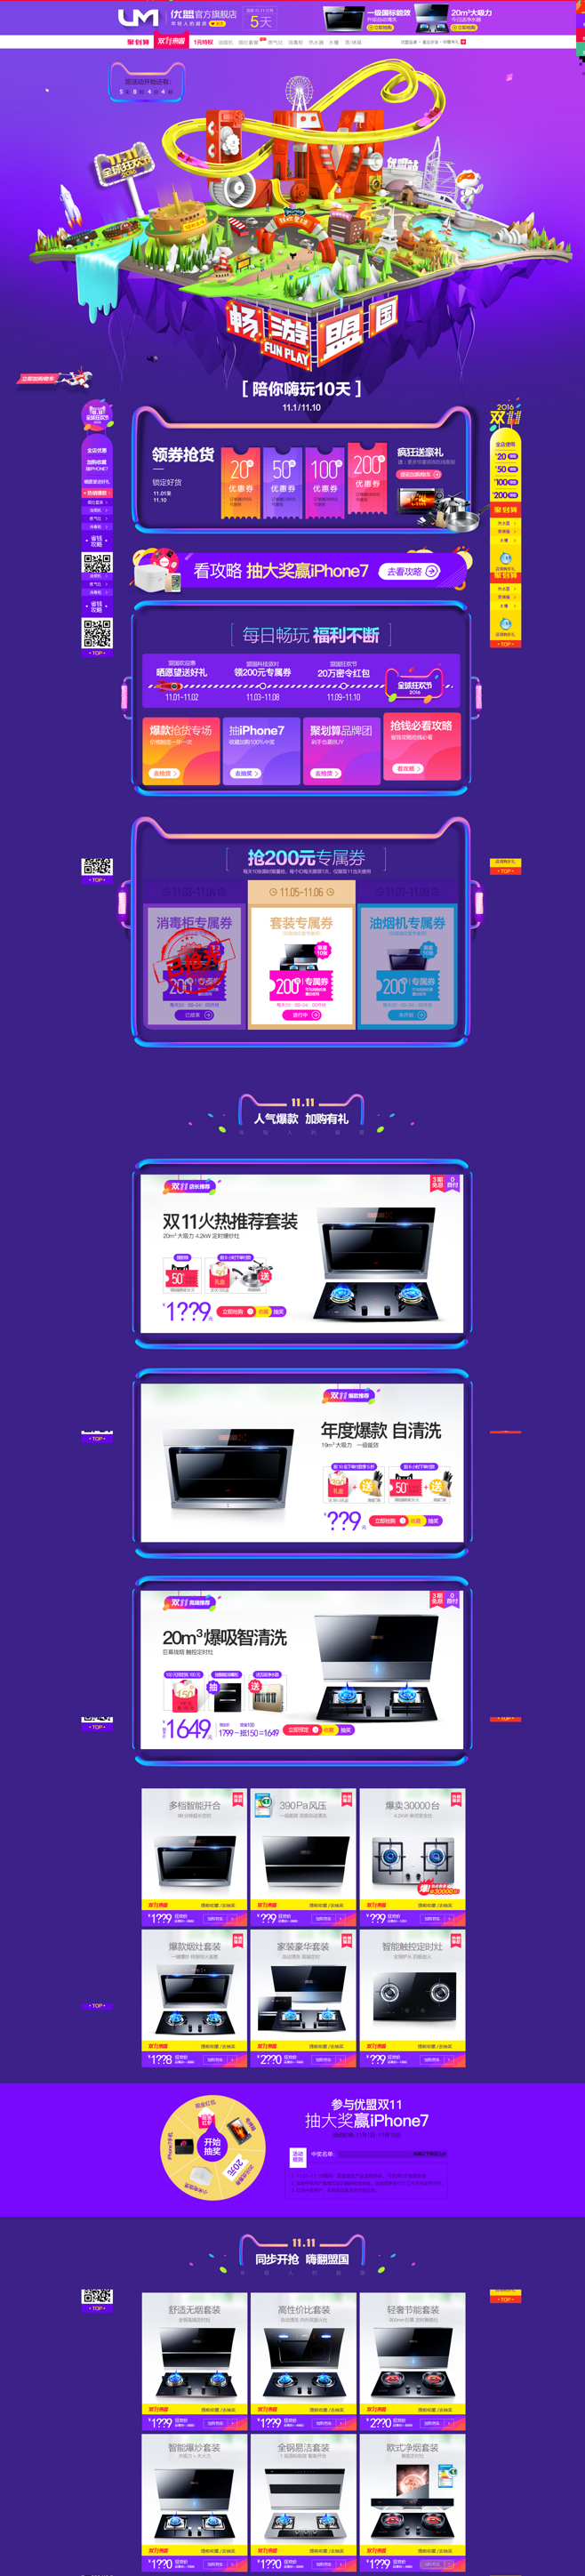floors: (120, 1083, 480, 2077), (122, 2226, 485, 2576), (118, 815, 486, 1051), (118, 600, 485, 798), (118, 376, 481, 539), (118, 545, 483, 595)
toutu: (2, 49, 585, 368)
